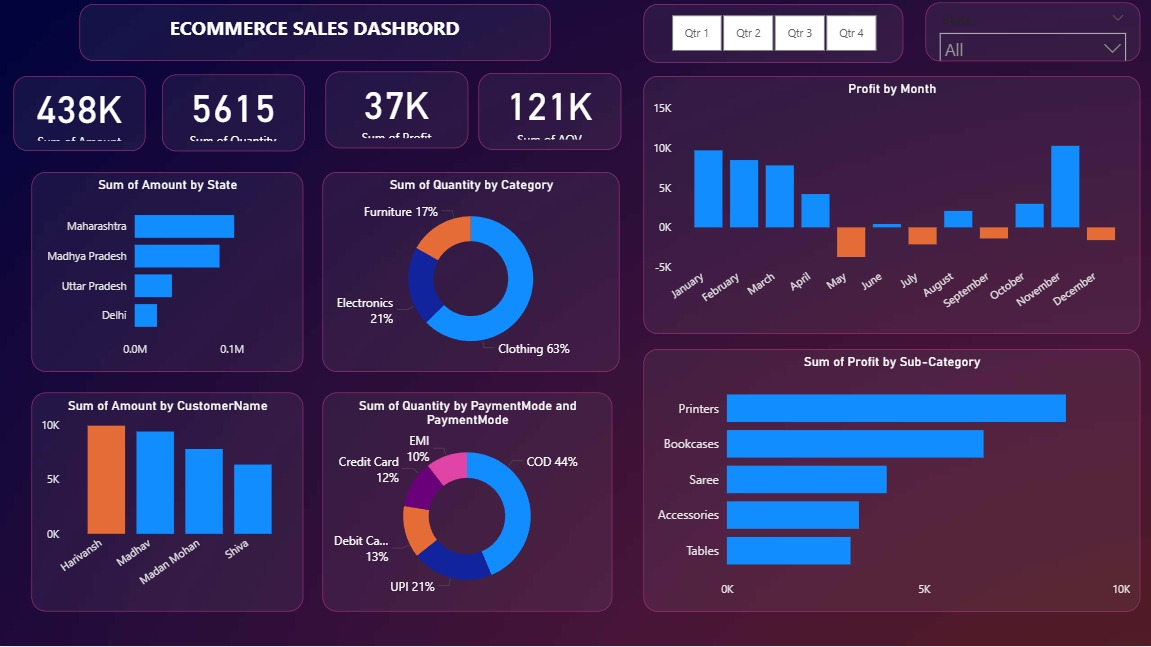

Layout of this report page (visuals, bound fields, positions):
{"tool":"powerbi","page":{"name":"Page 1","canvas":[1280,720],"ordinal":0},"visuals":[{"type":"textbox","box":[88.3,6.7,523.3,63.3],"z":0},{"type":"columnChart","title":" Profit by Month","fields":{"Category":["Orders.Order Date.Variation.Date Hierarchy.Month"],"Y":["Details.Profit"]},"box":[715,86.7,551.7,286.7],"z":1},{"type":"barChart","fields":{"Y":["Details.Profit"],"Category":["Details.Sub-Category"]},"box":[715,390,551.7,291.7],"z":2},{"type":"donutChart","fields":{"Category":["Details.Category"],"Y":["Details.Quantity"]},"box":[358.3,193.3,330,221.7],"z":3},{"type":"donutChart","fields":{"Category":["Details.PaymentMode"],"Y":["Details.Quantity"],"Series":["Details.PaymentMode"]},"box":[358.3,438.3,321.7,243.3],"z":4},{"type":"card","fields":{"Values":["Details.Amount"]},"box":[15,86.7,146.7,83.3],"z":5},{"type":"card","fields":{"Values":["Details.Quantity"]},"box":[180,85,158.3,85],"z":6},{"type":"card","fields":{"Values":["Details.Profit"]},"box":[361.7,81.7,158.3,85],"z":7},{"type":"card","fields":{"Values":["Details.AOV"]},"box":[531.7,83.3,158.3,85],"z":8},{"type":"barChart","fields":{"Category":["Orders.State"],"Y":["Details.Amount"]},"box":[35,193.3,301.7,221.7],"z":9},{"type":"columnChart","fields":{"Category":["Orders.CustomerName"],"Y":["Details.Amount"]},"box":[35,438.3,301.7,243.3],"z":10},{"type":"slicer","fields":{"Values":["Orders.Order Date.Variation.Date Hierarchy.Quarter"]},"box":[715,6.7,288.3,65],"z":11},{"type":"slicer","fields":{"Values":["Orders.State"]},"box":[1028.3,5,238.3,65],"z":12}]}

Visuals, with their boxes in screenshot pixels (x1, y1, x2, y2), scaled from the page's 1280x720 canvas onto the 1151x647 screenshot:
textbox: select_region(79, 6, 550, 63)
" Profit by Month" columnChart: select_region(643, 78, 1139, 336)
barChart - Details.Profit x Details.Sub-Category: select_region(643, 350, 1139, 613)
donutChart - Details.Category x Details.Quantity: select_region(322, 174, 619, 373)
donutChart - Details.PaymentMode x Details.Quantity: select_region(322, 394, 611, 612)
card - Details.Amount: select_region(13, 78, 145, 153)
card - Details.Quantity: select_region(162, 76, 304, 153)
card - Details.Profit: select_region(325, 73, 468, 150)
card - Details.AOV: select_region(478, 75, 620, 151)
barChart - Orders.State x Details.Amount: select_region(31, 174, 303, 373)
columnChart - Orders.CustomerName x Details.Amount: select_region(31, 394, 303, 612)
slicer - Orders.Order Date.Variation.Date Hierarchy.Quarter: select_region(643, 6, 902, 64)
slicer - Orders.State: select_region(925, 4, 1139, 63)
